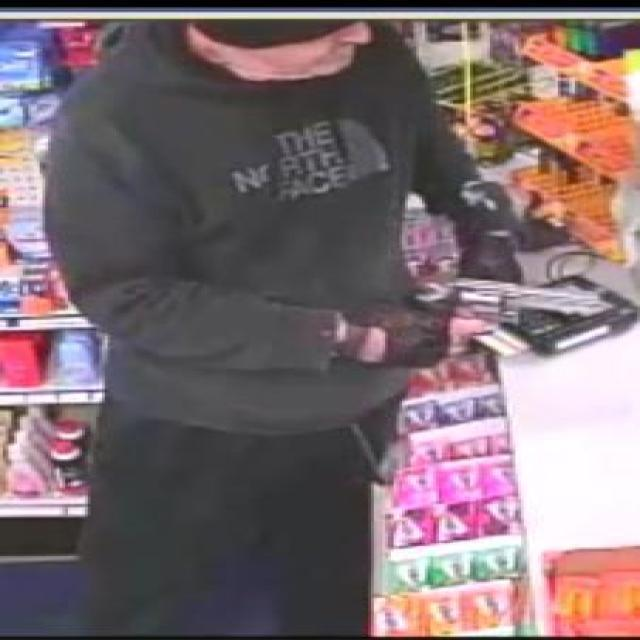Gun: (412, 264, 539, 369)
